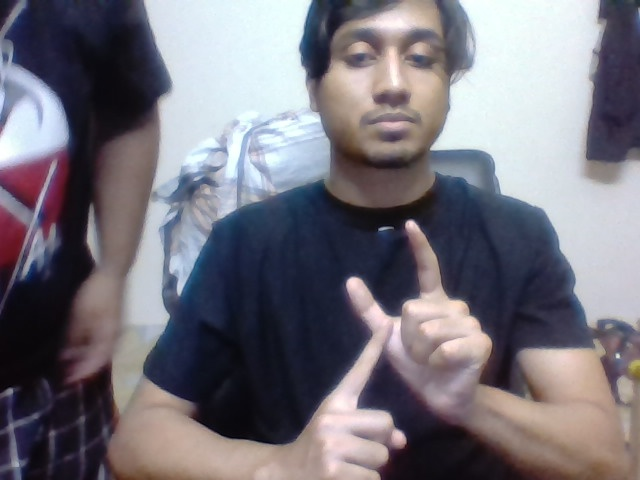Y: (323, 216, 451, 394)
